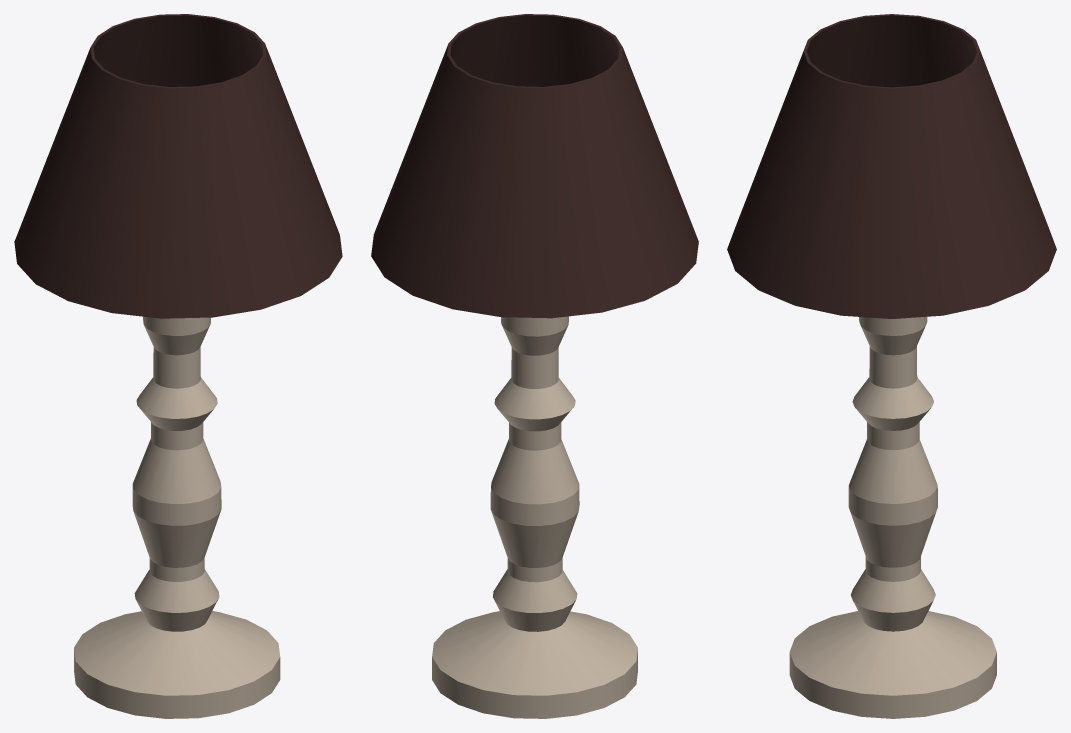
Rendered from LampeChevet1_1.fbx.
3 views of the same model, side by side, from view 1: azimuth 30°, elevation 25°; view 2: azimuth 150°, elevation 25°; view 3: azimuth 270°, elevation 25° (orthographic).
Parts seen in each view (by area): view 1: salle_de_jeu:pPipe38, salle_de_jeu:pCylinder230; view 2: salle_de_jeu:pPipe38, salle_de_jeu:pCylinder230; view 3: salle_de_jeu:pPipe38, salle_de_jeu:pCylinder230.
Part boxes in pixels (<box>): salle_de_jeu:pPipe38: <box>14,14,342,318</box>; salle_de_jeu:pCylinder230: <box>74,316,280,718</box>; salle_de_jeu:pPipe38: <box>371,14,698,318</box>; salle_de_jeu:pCylinder230: <box>432,316,637,718</box>; salle_de_jeu:pPipe38: <box>727,14,1056,318</box>; salle_de_jeu:pCylinder230: <box>789,316,996,718</box>.
Size of the model in its own units: 15.07 by 31.45 by 15.07.
